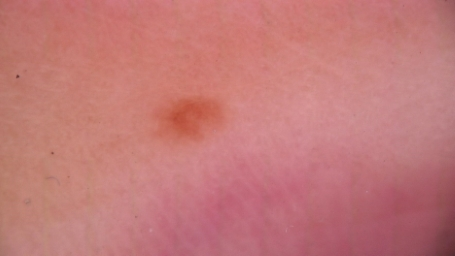nevus: (152, 94, 226, 148)
